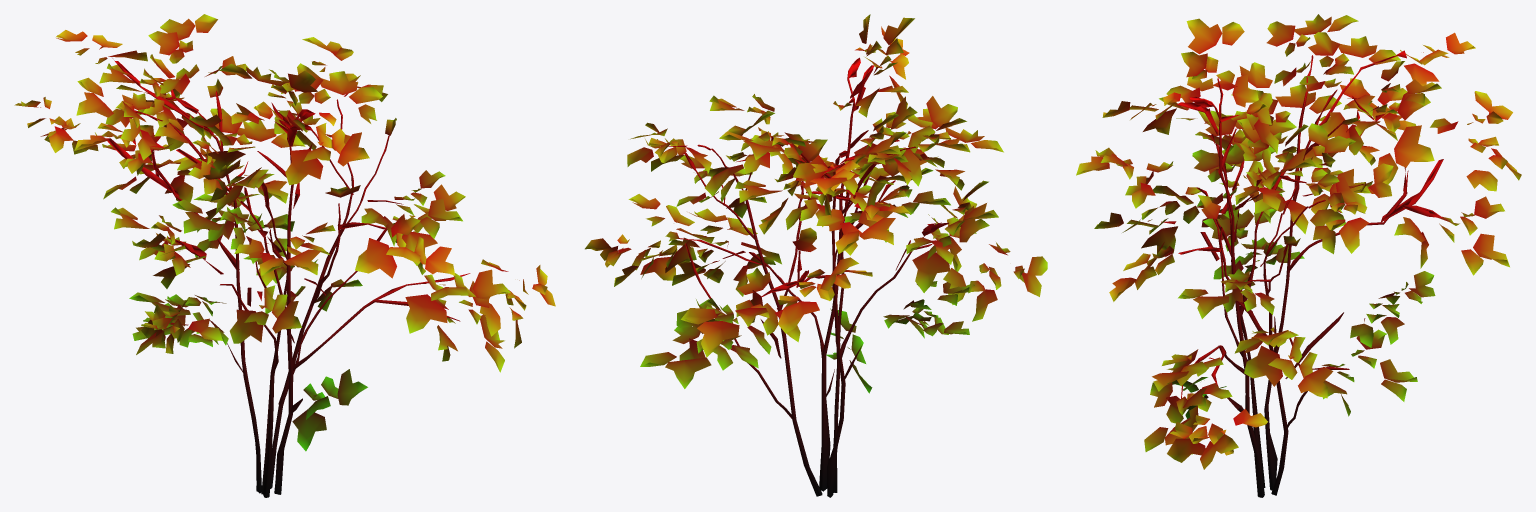
The model's file is SM_EuropeanHornbeam_Sapling_02.fbx.
The picture shows the model from 3 angles, left to right: view 1: azimuth 30°, elevation 25°; view 2: azimuth 150°, elevation 25°; view 3: azimuth 270°, elevation 25°; orthographic projection. The views are drawn at different scales.
Parts seen in each view (by area): view 1: SM_EuropeanHornbeam_Sapling_02; view 2: SM_EuropeanHornbeam_Sapling_02; view 3: SM_EuropeanHornbeam_Sapling_02.
Boxes of the visible parts, left/top/right/bottom form: SM_EuropeanHornbeam_Sapling_02: left=14, top=14, right=555, bottom=497; SM_EuropeanHornbeam_Sapling_02: left=585, top=14, right=1047, bottom=497; SM_EuropeanHornbeam_Sapling_02: left=1076, top=14, right=1521, bottom=497.
Bounding box in the file's own units: 194 × 177 × 199.
